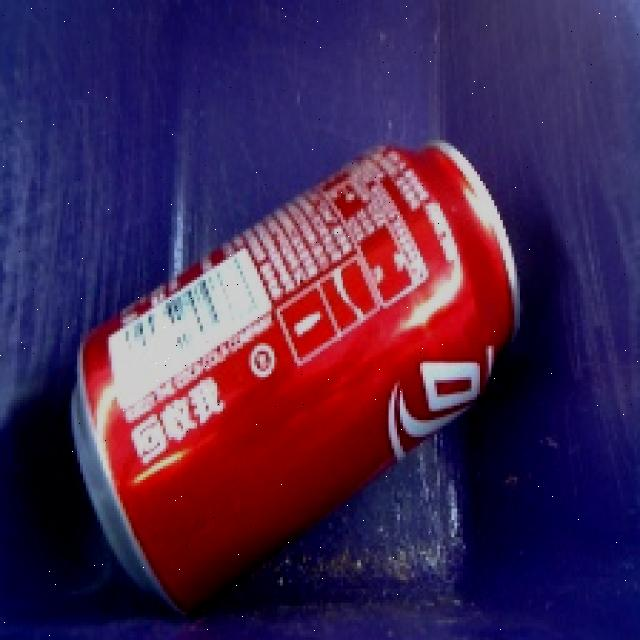metal: (54, 114, 542, 636)
